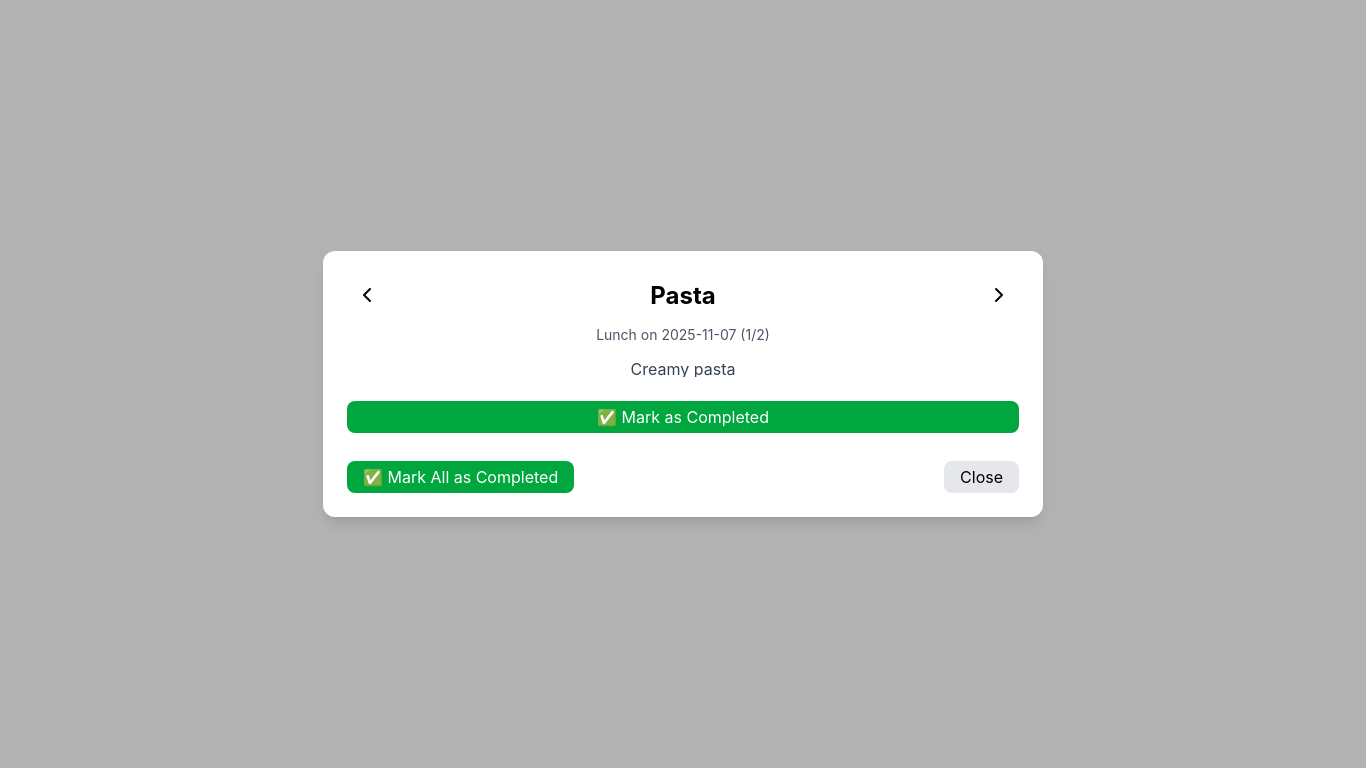
Test case: MealDetailModal – full coverage › clicks arrow buttons to change meal
Step 1. Click the button named "Next meal" → (999,296), box [979,275,1019,317]
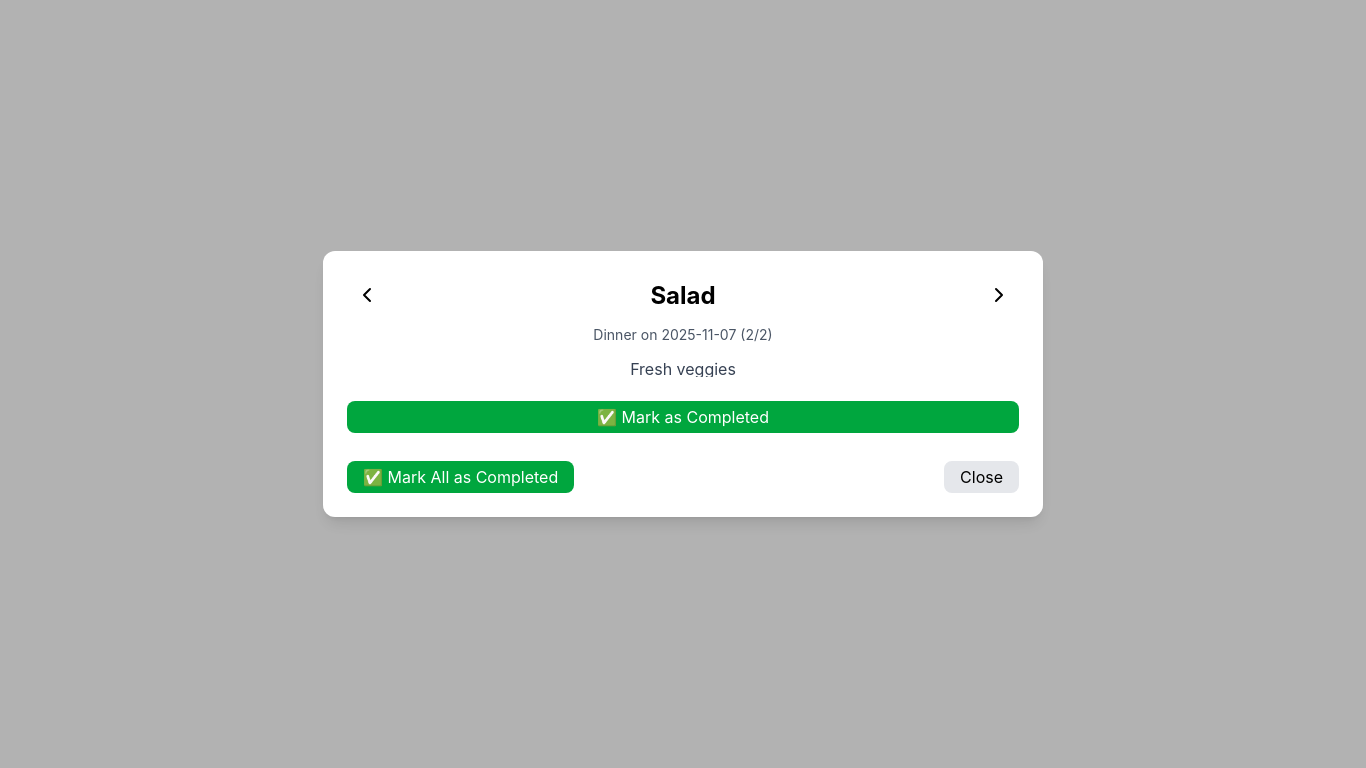
expect the heading "Salad" is shown: met, box [650,281,716,310]
Step 2. Click the button named "Previous meal" → (367,296), box [347,275,387,317]
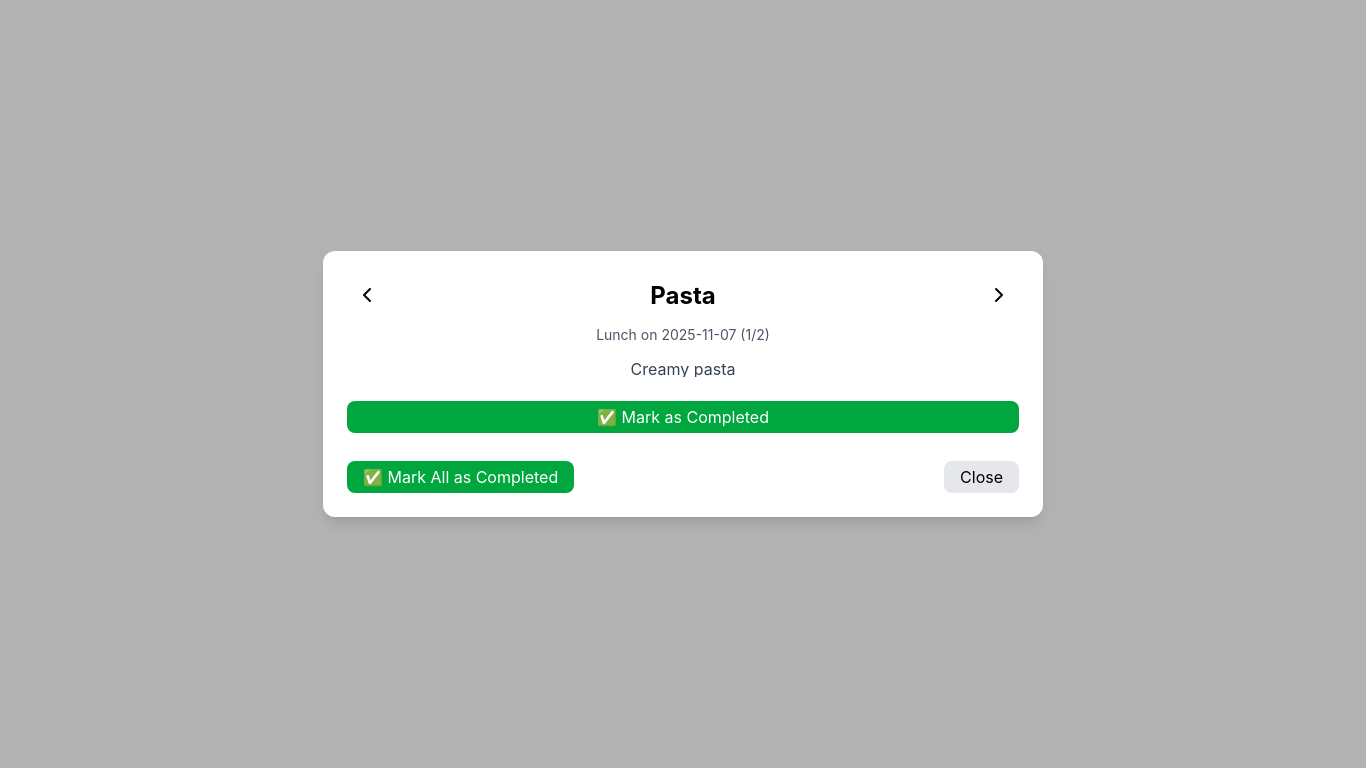
expect the heading "Pasta" is shown: met, box [650,281,716,310]
